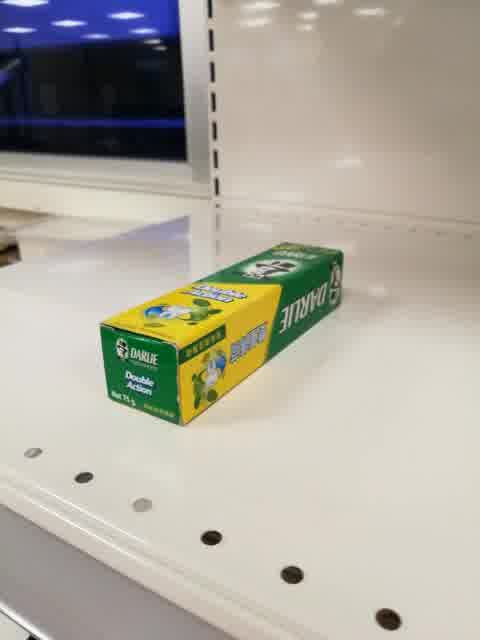toothpaste: (100, 242, 345, 431)
